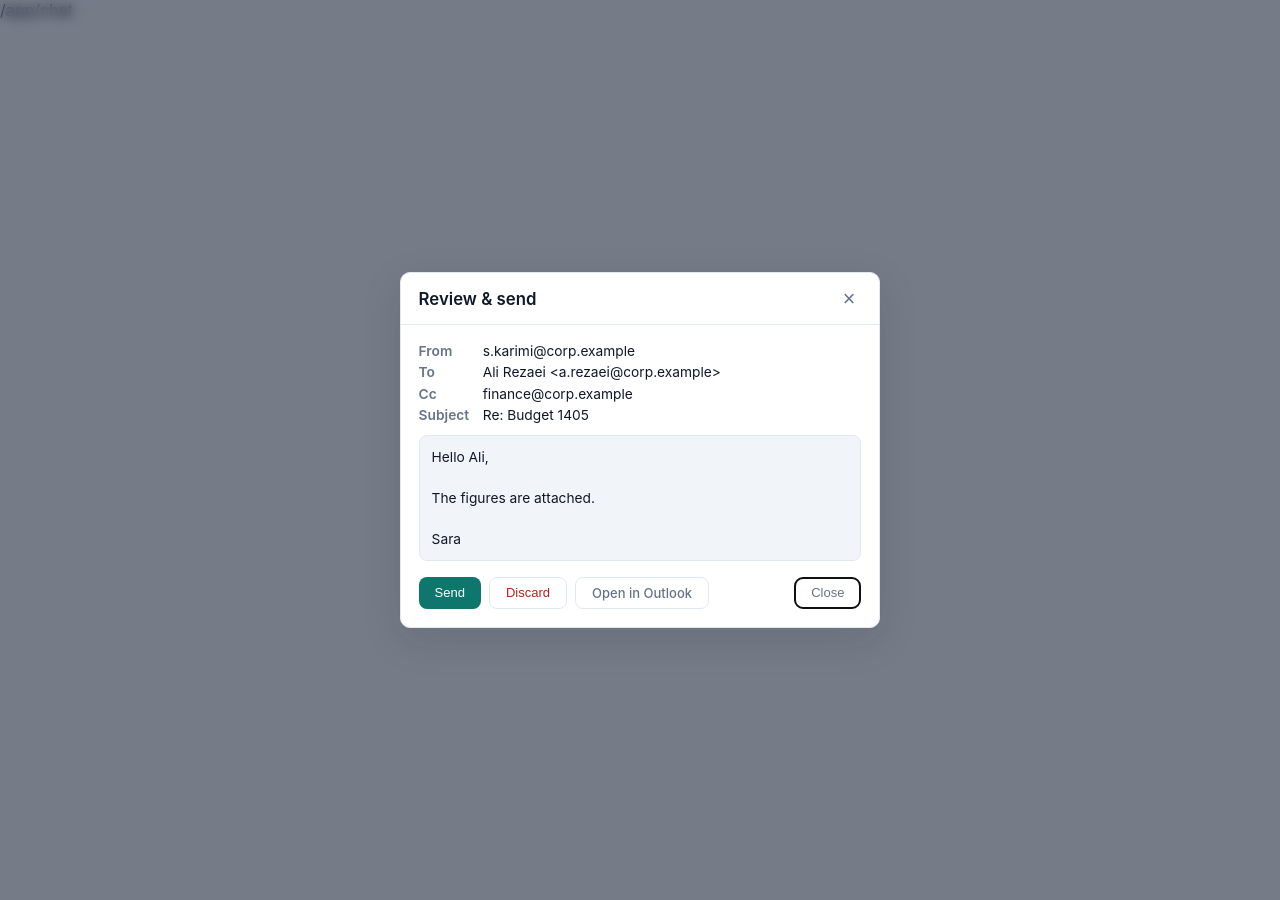
Test case: MailReviewDialog › turns Send off when the server says sending was switched off meanwhile
Click the button "Send" at point(450, 593), box [419,577,481,609]
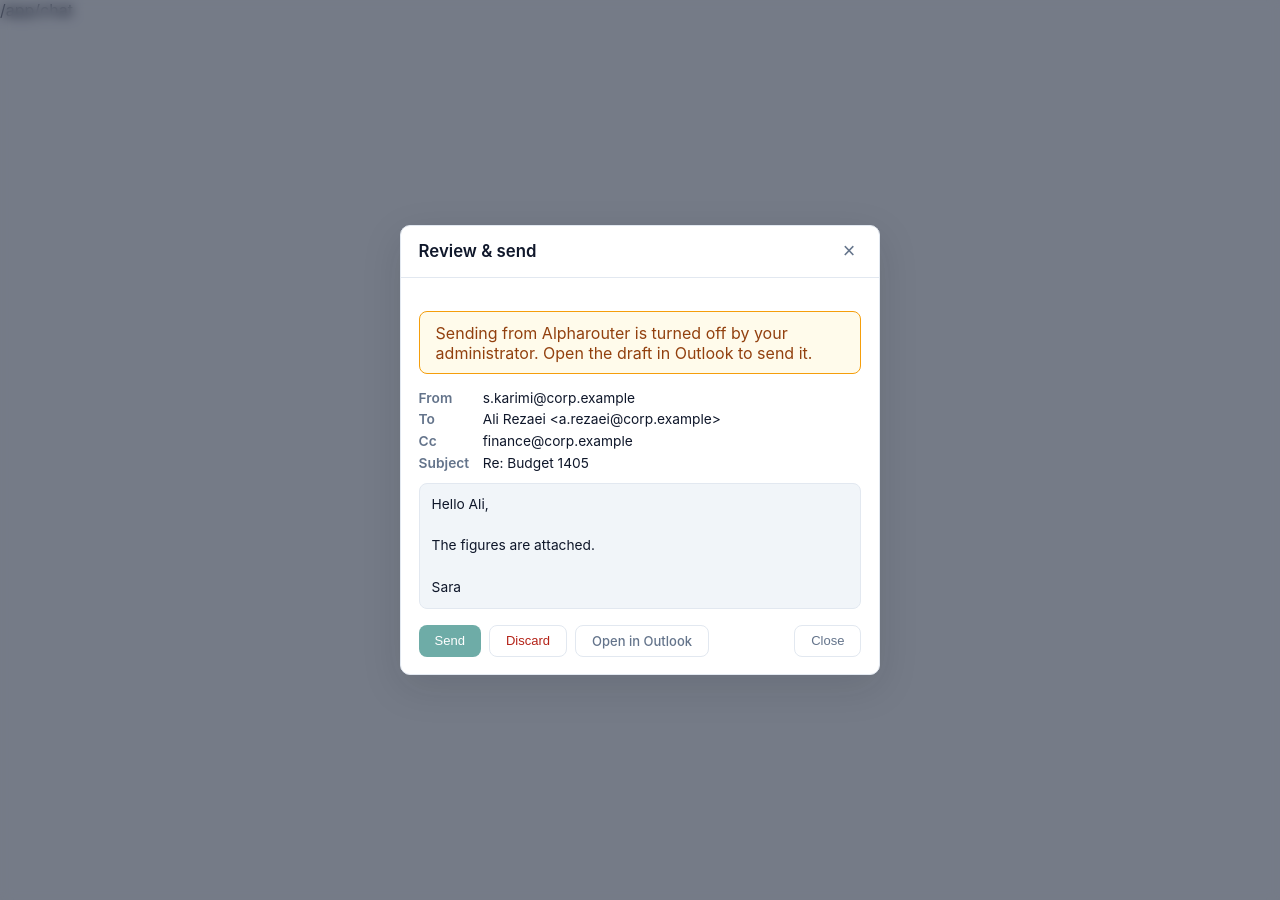
expect the button "Send" is disabled: met, box [419,625,481,657]
